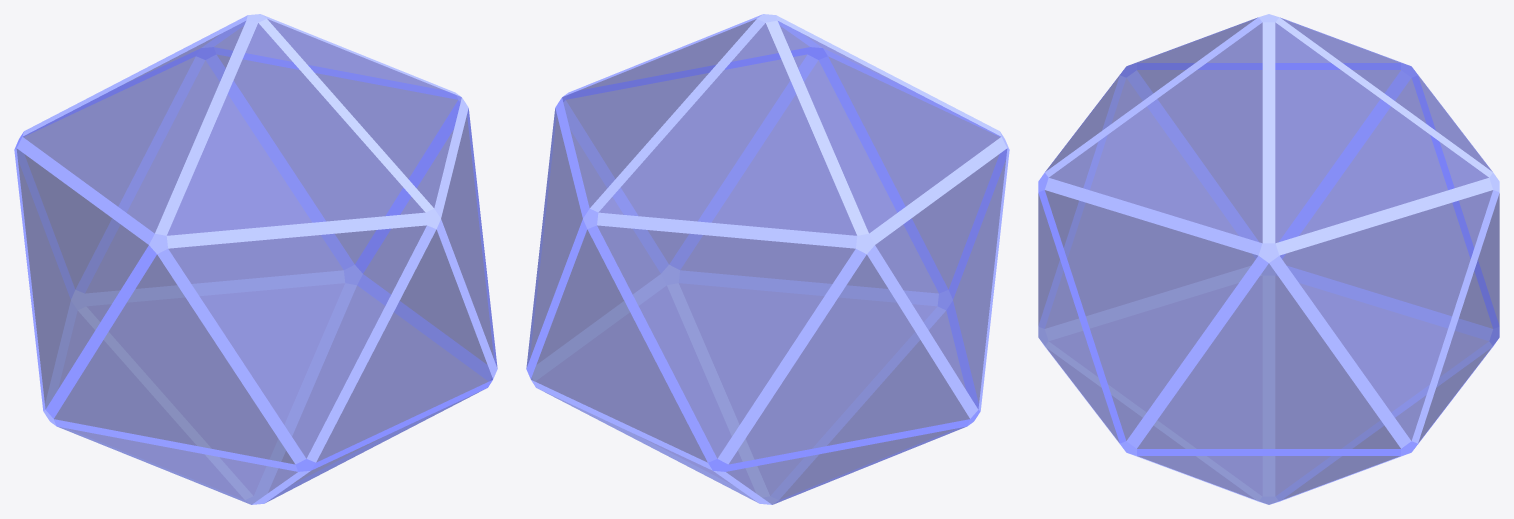
Rendered from space_shooter_enemy_basic.glb.
The picture shows the model from 3 angles, left to right: view 1: azimuth 30°, elevation 25°; view 2: azimuth 150°, elevation 25°; view 3: azimuth 270°, elevation 25°; orthographic projection.
Parts seen in each view (by area): view 1: Icosphere; view 2: Icosphere; view 3: Icosphere.
Part boxes in pixels (<box>): Icosphere: <box>14,14,497,504</box>; Icosphere: <box>526,14,1009,504</box>; Icosphere: <box>1038,14,1499,504</box>.
Bounding box in the file's own units: 1.77 × 1.94 × 1.68.
